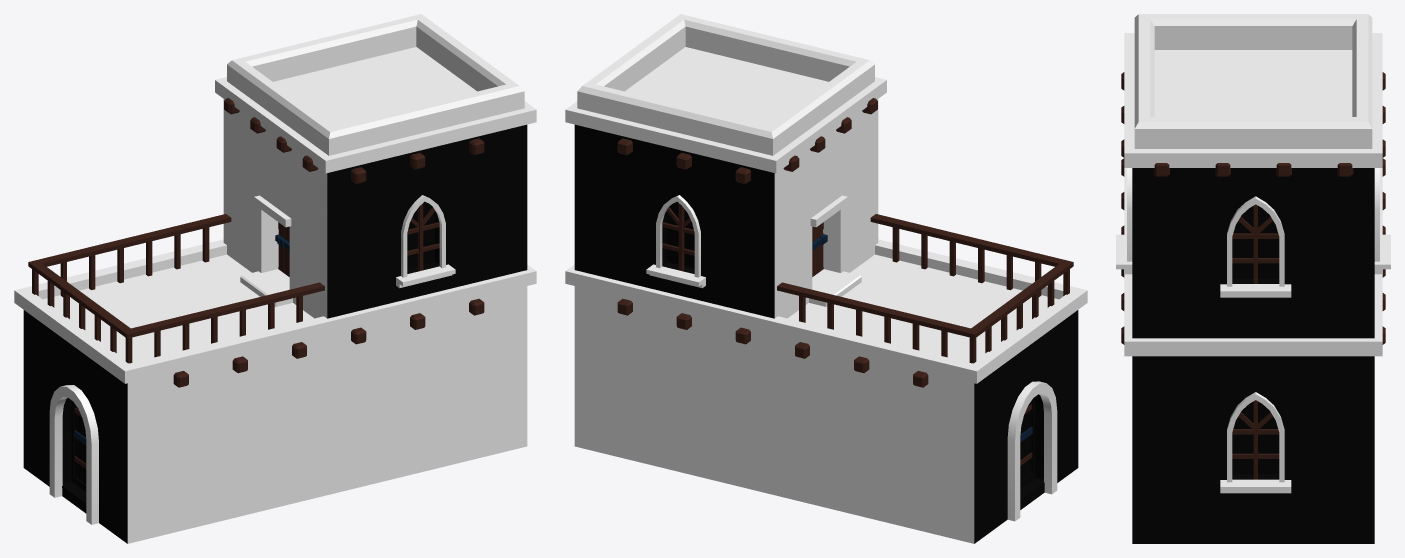
File: civilian_house_34_h.FBX
The picture shows the model from 3 angles, left to right: view 1: azimuth 30°, elevation 25°; view 2: azimuth 150°, elevation 25°; view 3: azimuth 270°, elevation 25°; orthographic projection. The views are drawn at different scales.
Parts seen in each view (by area): view 1: civilian_house_34_h; view 2: civilian_house_34_h; view 3: civilian_house_34_h.
Part boxes in pixels (x1,y1,x2,y2): civilian_house_34_h: [14, 14, 536, 543]; civilian_house_34_h: [565, 14, 1087, 543]; civilian_house_34_h: [1116, 14, 1390, 543].
Size of the model in its own units: 1049 by 860 by 511.
